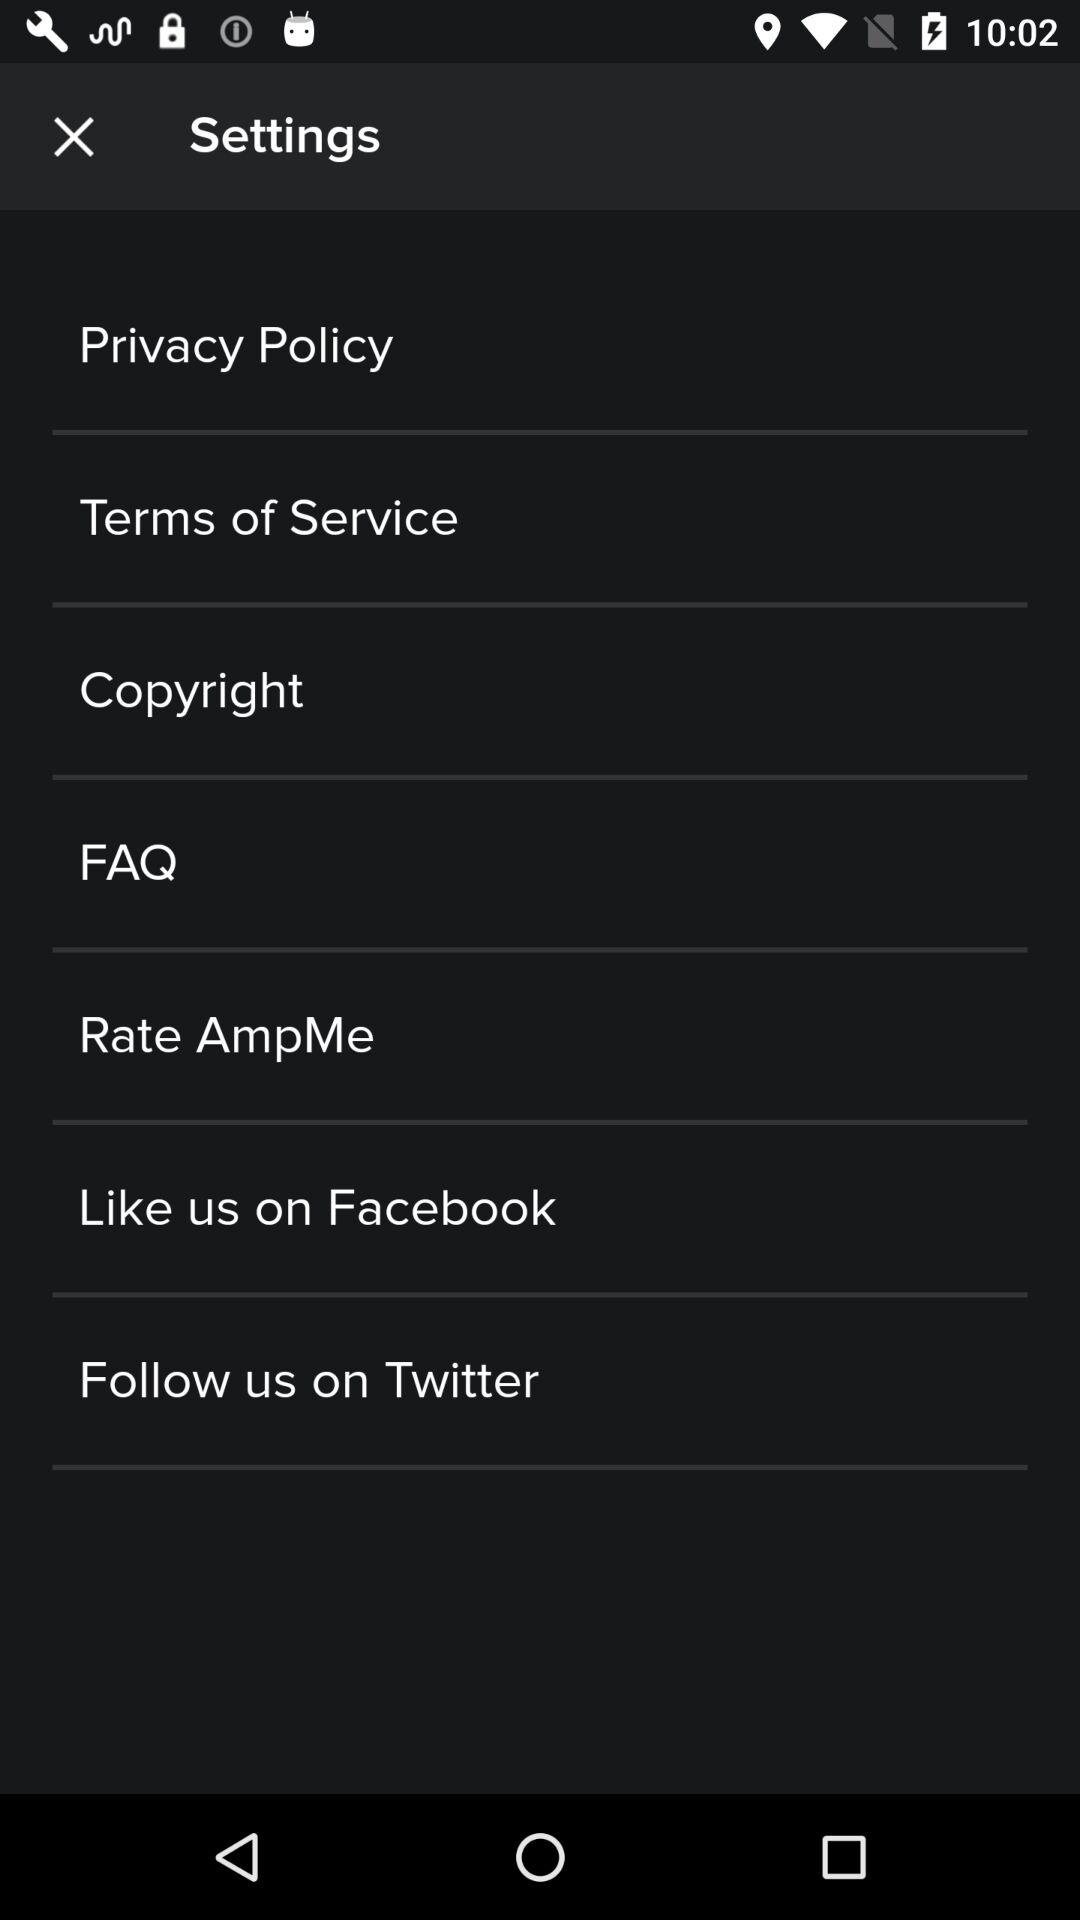Bar: (5, 63, 1075, 210)
TextView: (51, 262, 1029, 430), (51, 435, 1029, 603), (51, 608, 1029, 775), (51, 952, 1029, 1120), (51, 1125, 1029, 1292), (51, 1298, 1029, 1465), (51, 781, 1029, 947), (51, 1470, 1029, 1636), (189, 105, 381, 167)
